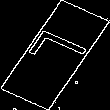L_SE: (18, 30, 92, 80)
